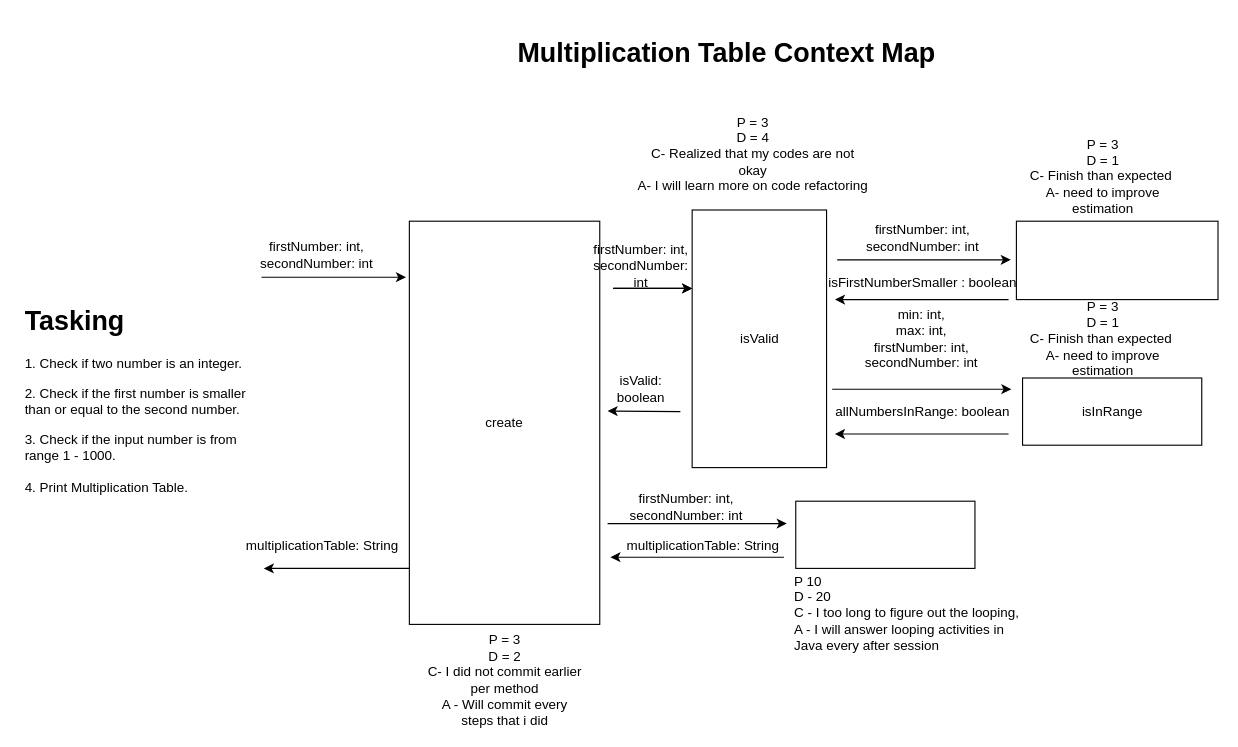
The diagram is 1238 pixels wide and 747 high, and some of its shapes have lost their labels. Here are the shapes that lost their labels. From the top down, the centre of each, then its label:
pixel 1116 260: isFirstNumberSmallerOrEqual
pixel 885 534: buildMultiplicationTable
